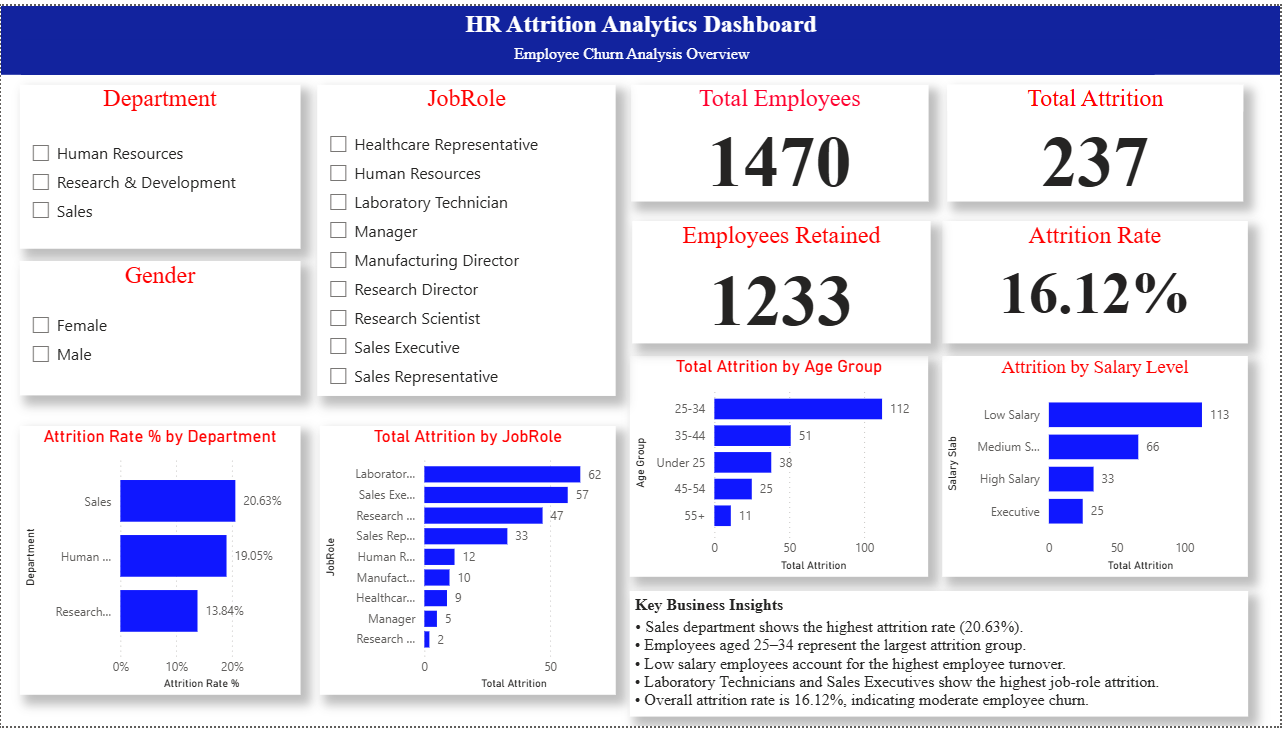

Layout of this report page (visuals, bound fields, positions):
{"tool":"powerbi","page":{"name":"HR Attrition  Analytics Dashboard","canvas":[1280,720],"ordinal":0},"visuals":[{"type":"card","title":"Total Employees","fields":{"Values":["Measures_Table.Total Employees"]},"box":[629.8,79.1,297.4,116.5],"z":0},{"type":"card","title":" Total Attrition","fields":{"Values":["Measures_Table.Total Attrition"]},"box":[946.4,79.1,296.2,116.5],"z":1000},{"type":"cardVisual","title":"Attrition Rate","fields":{"Data":["Measures_Table.Attrition Rate %"]},"box":[941.8,214.8,305.3,122.1],"z":2000},{"type":"clusteredBarChart","fields":{"Category":["HR_Employee_Attrition.Department"],"Y":["Measures_Table.Attrition Rate %"]},"box":[19.2,419.5,280.4,269.1],"z":3000},{"type":"clusteredBarChart","fields":{"Category":["HR_Employee_Attrition.JobRole"],"Y":["Measures_Table.Total Attrition"]},"box":[318.8,419.5,296.2,269.1],"z":4000},{"type":"clusteredBarChart","fields":{"Category":["HR_Employee_Attrition.Age Group"],"Y":["Measures_Table.Total Attrition"]},"box":[628.6,350.5,298.5,220.5],"z":5000},{"type":"clusteredBarChart","title":"Attrition by Salary Level","fields":{"Category":["HR_Employee_Attrition.Salary Slab"],"Y":["Measures_Table.Total Attrition"]},"box":[941.8,350.5,305.3,220.5],"z":6000},{"type":"slicer","title":"Department","fields":{"Values":["HR_Employee_Attrition.Department"]},"box":[19.2,79.1,280.4,163.9],"z":7000},{"type":"slicer","title":"Gender","fields":{"Values":["HR_Employee_Attrition.Gender"]},"box":[19.2,255.5,280.4,134.5],"z":8000},{"type":"slicer","title":"JobRole","fields":{"Values":["HR_Employee_Attrition.JobRole"]},"box":[316.6,79.1,298.5,310.9],"z":9000},{"type":"textbox","box":[0,0,1280.2,68.6],"z":10000},{"type":"textbox","box":[19.8,33.7,1133.7,34.9],"z":11000},{"type":"card","title":"Employees Retained","fields":{"Values":["HR_Employee_Attrition.Total Retention"]},"box":[630.9,214.8,298.5,122.1],"z":12000},{"type":"textbox","box":[628.6,584.6,618.5,125.5],"z":13000}]}

Visuals, with their boxes in screenshot pixels (x1, y1, x2, y2), scaled from the page's 1280x720 canvas onto the 1282x730 screenshot:
"Total Employees" card: pyautogui.locateOnScreen(631, 80, 929, 198)
" Total Attrition" card: pyautogui.locateOnScreen(948, 80, 1245, 198)
"Attrition Rate" cardVisual: pyautogui.locateOnScreen(943, 218, 1249, 342)
clusteredBarChart - HR_Employee_Attrition.Department x Measures_Table.Attrition Rate %: pyautogui.locateOnScreen(19, 425, 300, 698)
clusteredBarChart - HR_Employee_Attrition.JobRole x Measures_Table.Total Attrition: pyautogui.locateOnScreen(319, 425, 616, 698)
clusteredBarChart - HR_Employee_Attrition.Age Group x Measures_Table.Total Attrition: pyautogui.locateOnScreen(630, 355, 929, 579)
"Attrition by Salary Level" clusteredBarChart: pyautogui.locateOnScreen(943, 355, 1249, 579)
"Department" slicer: pyautogui.locateOnScreen(19, 80, 300, 246)
"Gender" slicer: pyautogui.locateOnScreen(19, 259, 300, 395)
"JobRole" slicer: pyautogui.locateOnScreen(317, 80, 616, 395)
textbox: pyautogui.locateOnScreen(0, 0, 1281, 70)
textbox: pyautogui.locateOnScreen(20, 34, 1155, 70)
"Employees Retained" card: pyautogui.locateOnScreen(632, 218, 931, 342)
textbox: pyautogui.locateOnScreen(630, 593, 1249, 720)
